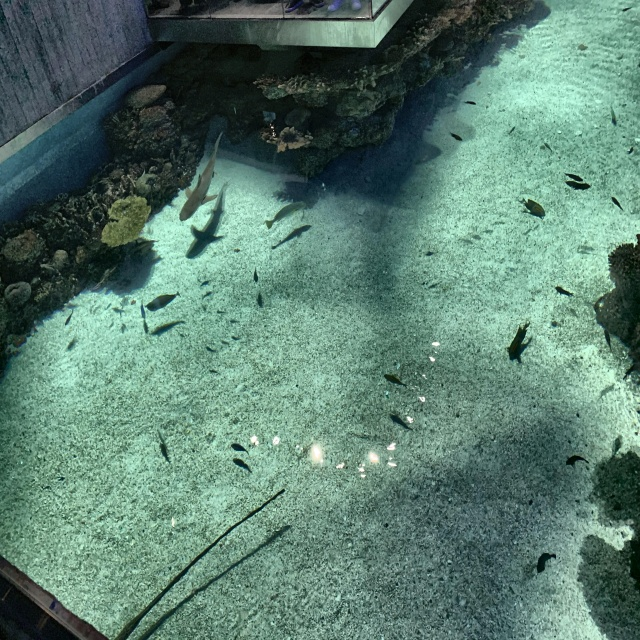fish: (264, 199, 307, 230), (507, 320, 532, 363), (144, 291, 180, 312), (535, 549, 557, 576), (520, 197, 546, 218), (384, 370, 407, 390), (566, 452, 590, 469), (230, 440, 248, 457), (554, 283, 573, 299), (564, 169, 584, 184), (160, 440, 170, 464), (64, 309, 77, 327), (611, 196, 623, 213), (603, 325, 612, 346), (450, 130, 464, 143), (252, 266, 259, 285), (464, 98, 477, 107), (610, 106, 616, 124)
shark: (179, 130, 227, 222)
